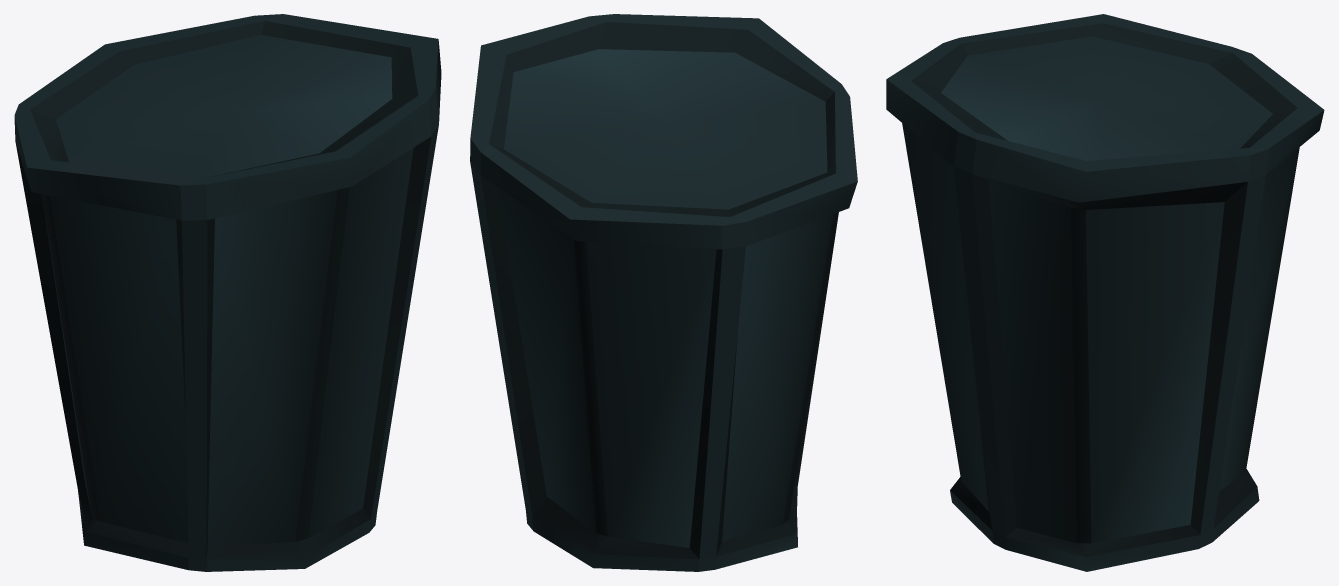
The model's file is c_barrel_metal_aa.fbx.
3 renders of one model, left to right at view 1: azimuth 30°, elevation 25°; view 2: azimuth 150°, elevation 25°; view 3: azimuth 270°, elevation 25°, orthographic. The views are drawn at different scales.
Parts seen in each view (by area): view 1: c_barrel_metal_aa; view 2: c_barrel_metal_aa; view 3: c_barrel_metal_aa.
Boxes of the visible parts, x1,y1,x2,y2 form: c_barrel_metal_aa: [14, 14, 441, 571]; c_barrel_metal_aa: [470, 14, 857, 571]; c_barrel_metal_aa: [886, 14, 1324, 571].
Size of the model in its own units: 1.38 by 1.43 by 1.32.
